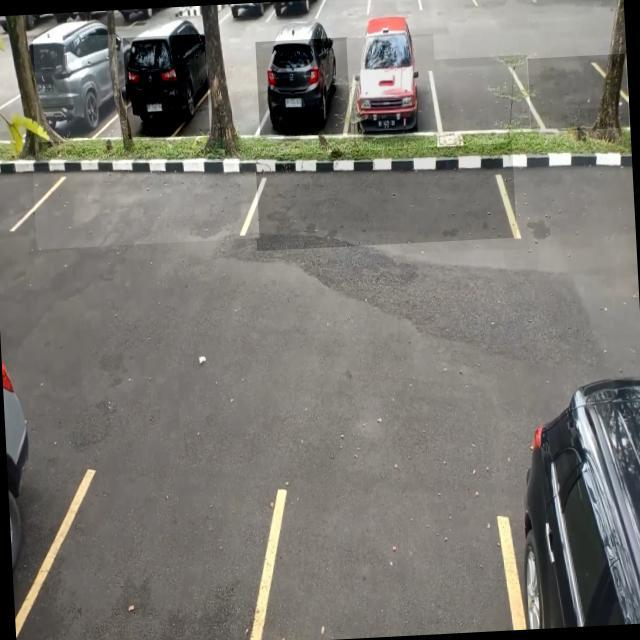empty: (252, 143, 517, 251), (32, 155, 260, 250), (528, 54, 630, 132), (433, 54, 531, 132)
occupied: (255, 37, 352, 138), (33, 34, 121, 142), (346, 34, 438, 134), (124, 34, 210, 140)
